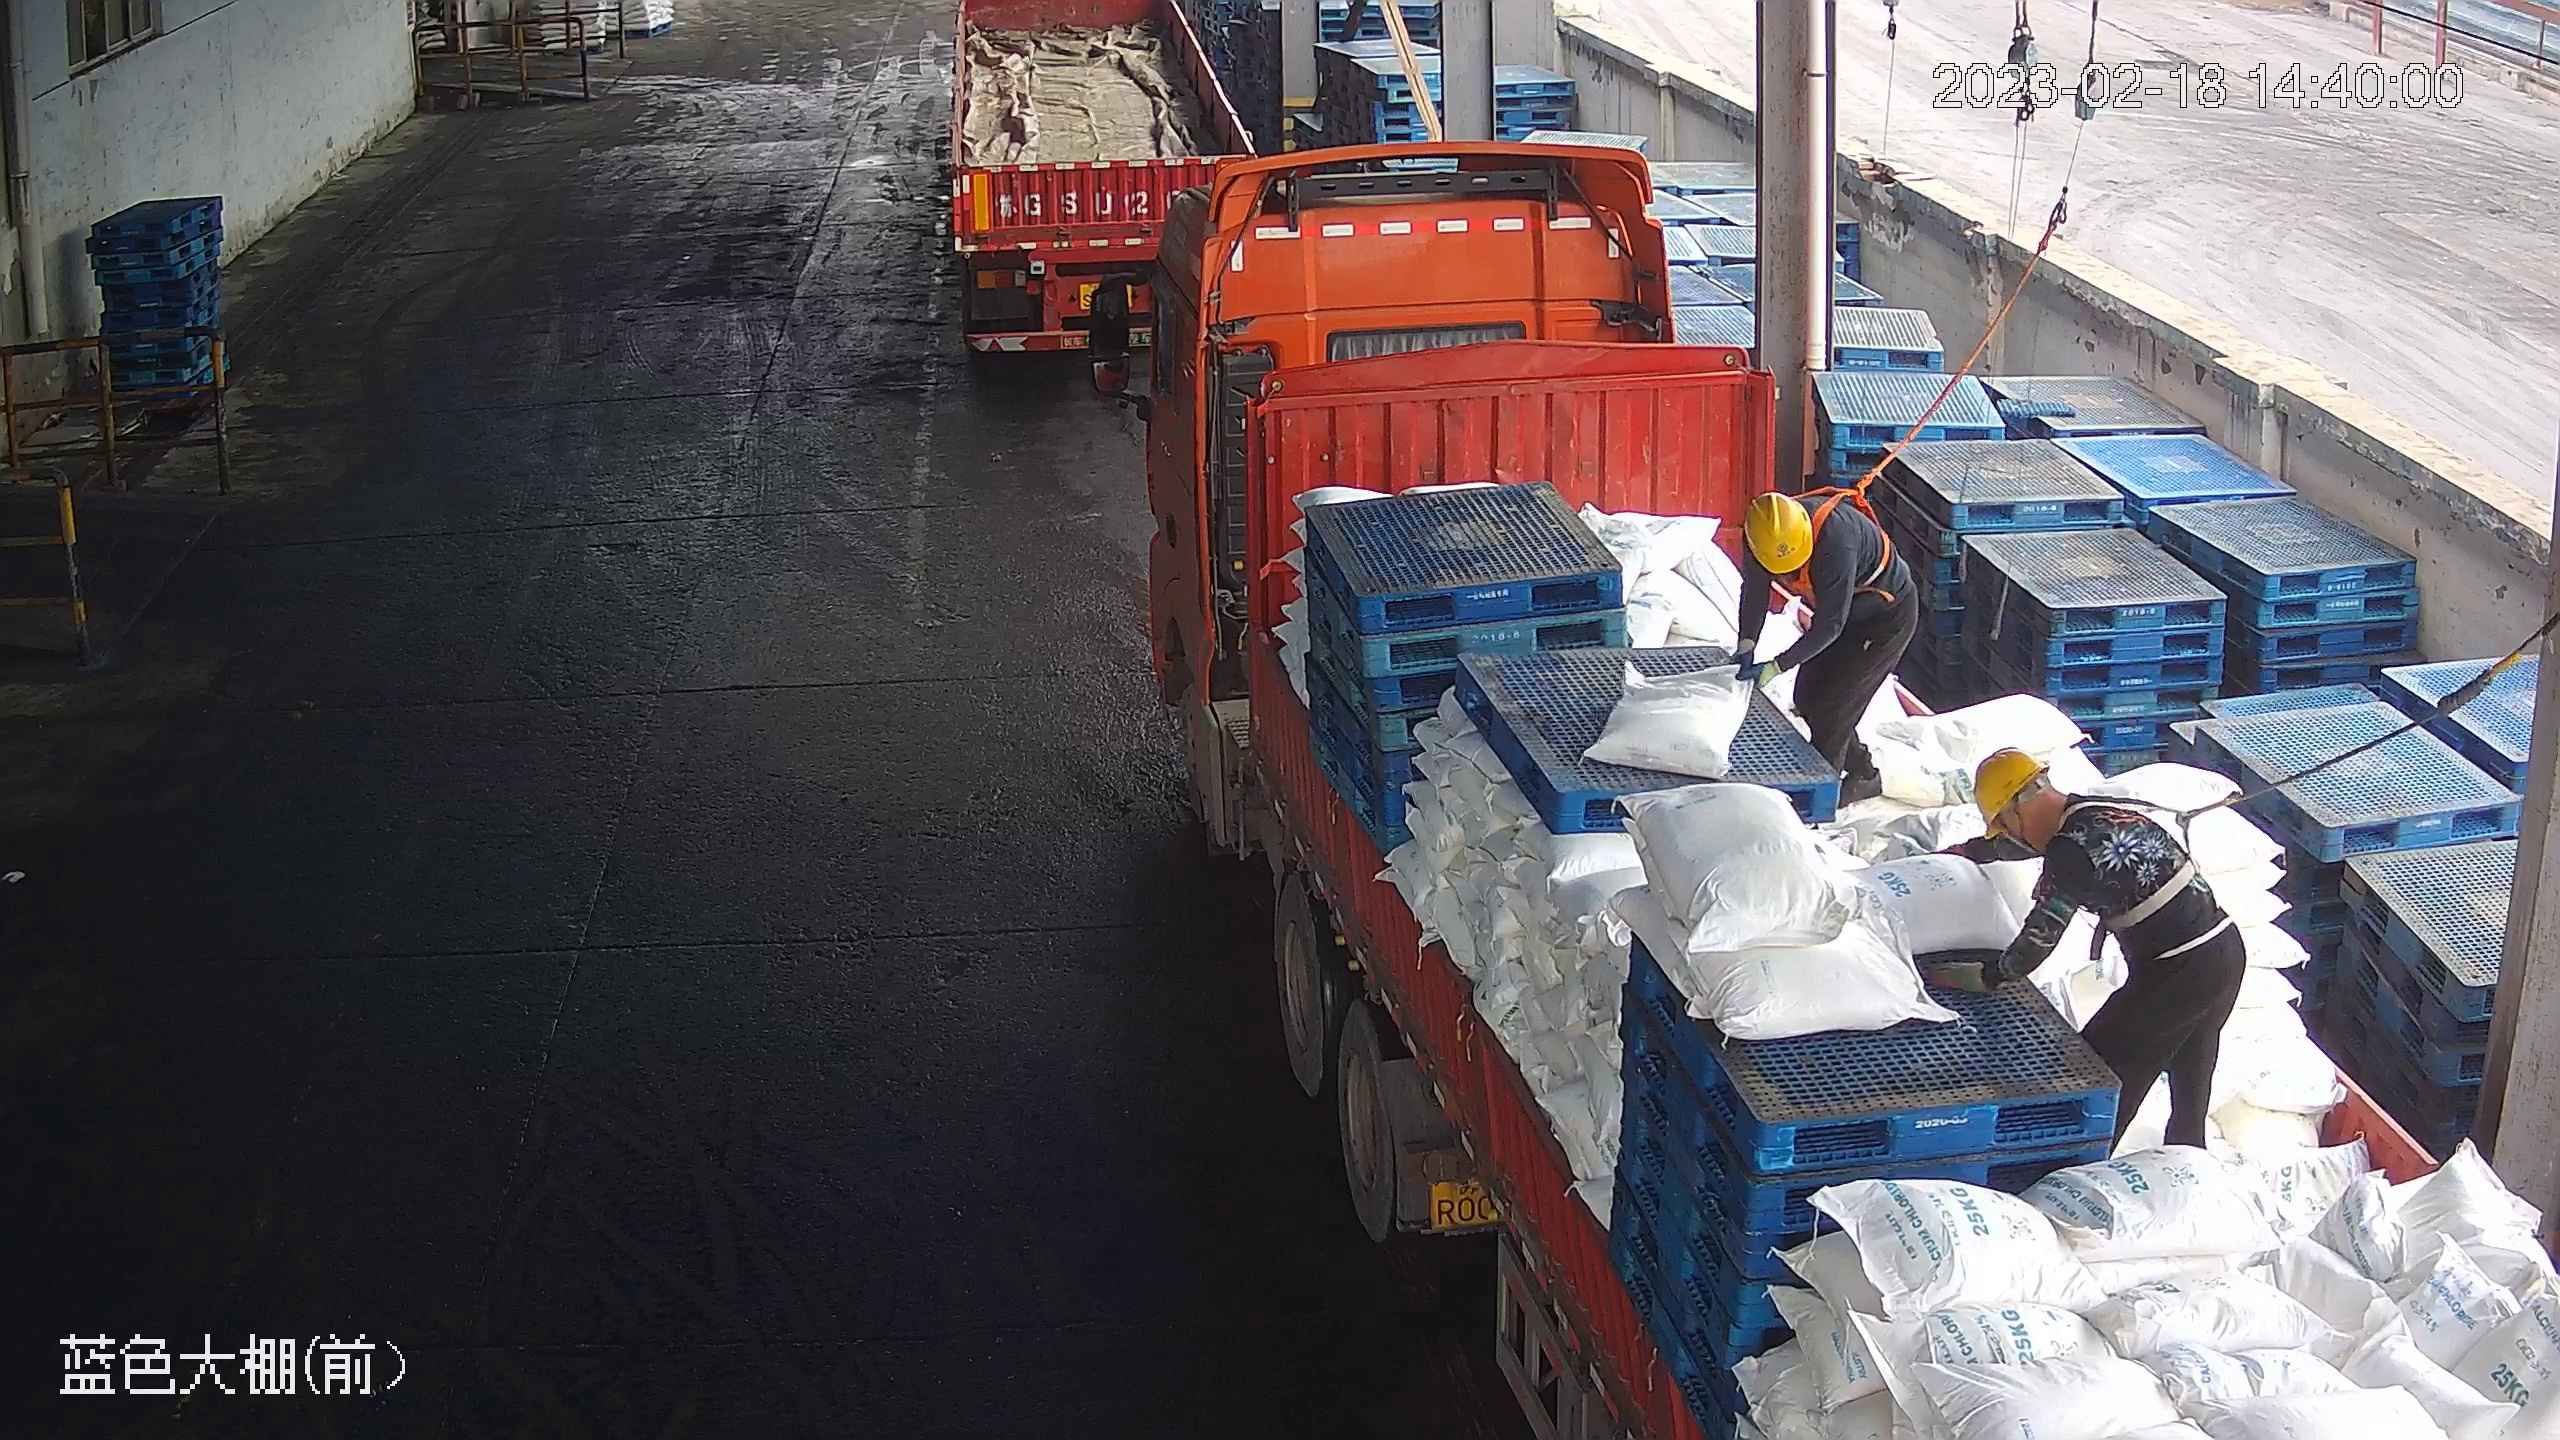belt: (2055, 790, 2234, 941), (1801, 475, 1895, 594)
head: (1966, 744, 2156, 883), (1740, 486, 1872, 611)
helmet: (1969, 746, 2050, 835), (1744, 490, 1815, 575)
people: (1955, 744, 2249, 1163), (1720, 484, 1924, 816)
truck: (1091, 149, 2550, 1438), (925, 6, 1269, 371)
